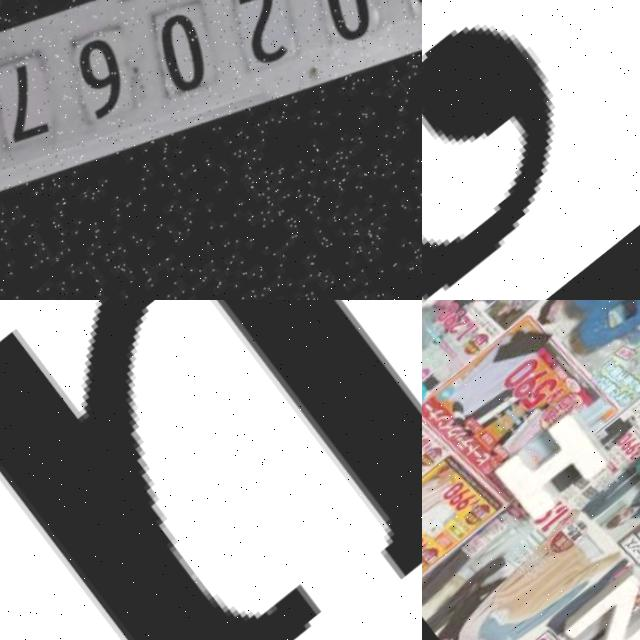0: (123, 0, 264, 125), (287, 0, 422, 75)
2: (422, 0, 640, 300), (204, 0, 342, 97)
6: (44, 10, 182, 147)
7: (0, 38, 100, 167)
B: (544, 300, 640, 367)
H: (496, 402, 628, 526)
U: (0, 300, 422, 640)
Z: (564, 557, 640, 640)
